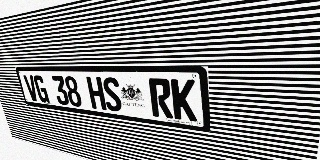3: (51, 76, 70, 106)
8: (63, 76, 83, 107)
G: (33, 75, 50, 103)
H: (86, 77, 107, 110)
K: (171, 79, 197, 122)
R: (148, 78, 173, 119)
S: (101, 77, 123, 112)
V: (23, 75, 40, 102)
